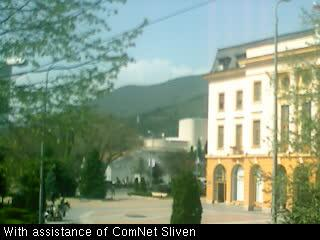person: (59, 197, 66, 218), (111, 185, 116, 197), (51, 192, 55, 203)
